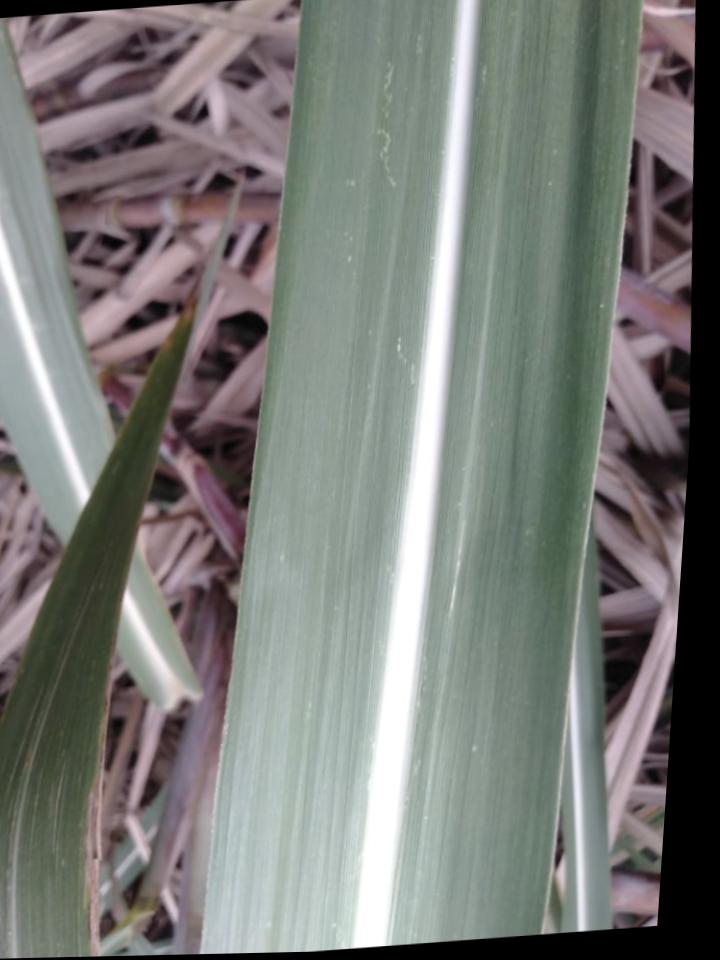Healthy: (200, 0, 640, 954), (560, 517, 611, 933)
